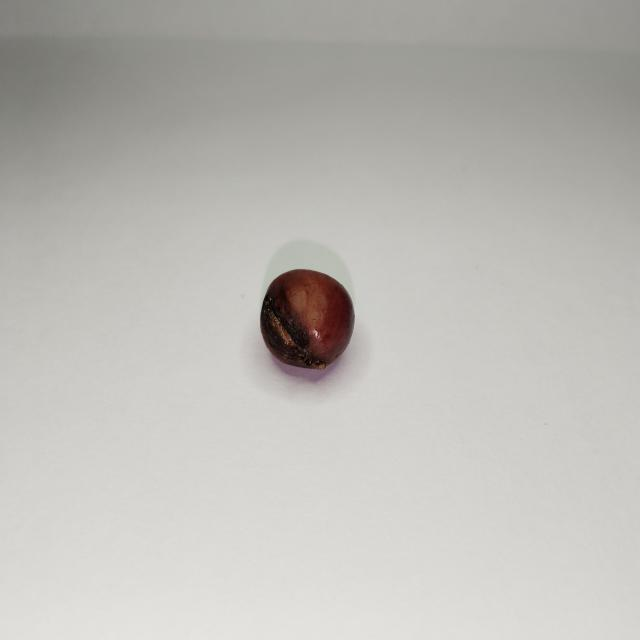Infectado: (261, 269, 353, 369)
